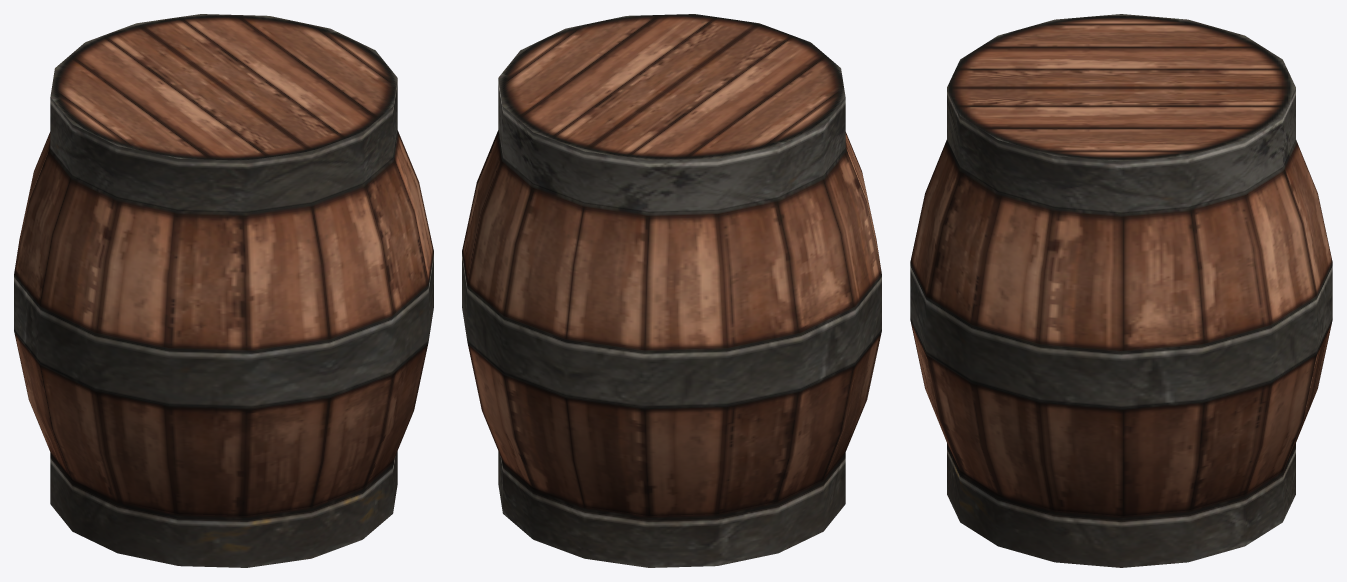
Rendered from Obj_barrel.FBX.
3 renders of one model, left to right at view 1: azimuth 30°, elevation 25°; view 2: azimuth 150°, elevation 25°; view 3: azimuth 270°, elevation 25°, orthographic.
Visible parts, largest first — view 1: Obj_barrel; view 2: Obj_barrel; view 3: Obj_barrel.
Boxes of the visible parts, box(x1,y1,x2,y2) form: Obj_barrel: box(14, 14, 433, 567); Obj_barrel: box(462, 14, 881, 567); Obj_barrel: box(910, 14, 1332, 567).
Bounding box in the file's own units: 62.02 × 65.81 × 62.02.
1 material, 1 textured.
